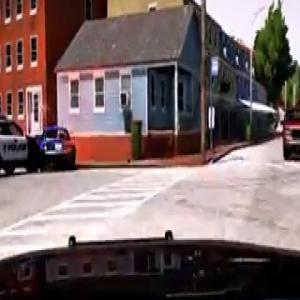moderate: (0, 100, 79, 182)
